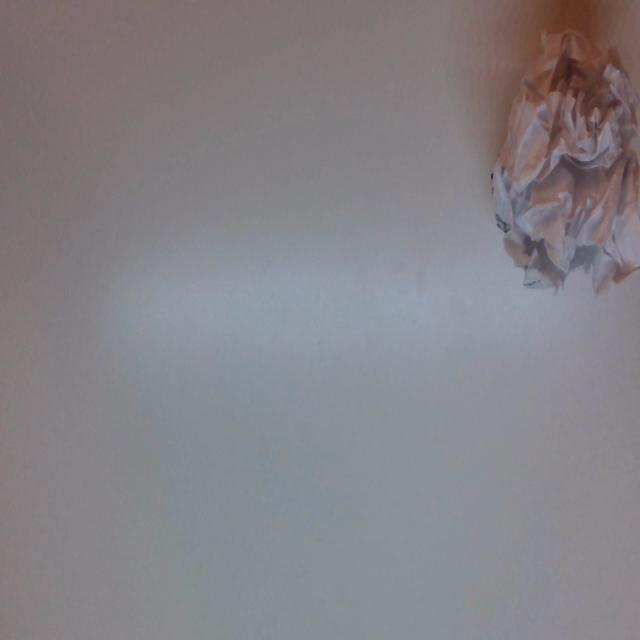Paper: (483, 20, 640, 292)
